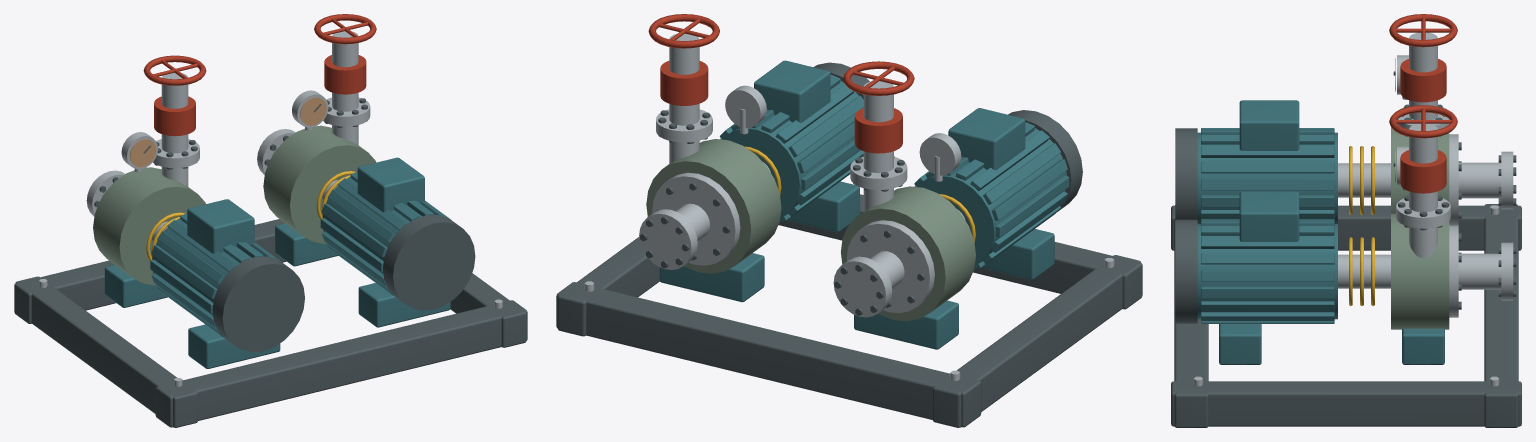
Rendered from pump_skid.glb.
The picture shows the model from 3 angles, left to right: view 1: azimuth 30°, elevation 25°; view 2: azimuth 150°, elevation 25°; view 3: azimuth 270°, elevation 25°; orthographic projection. The views are drawn at different scales.
Parts seen in each view (by area): view 1: pump_skid_SPOT_cast_iron, pump_skid_SPOT_petrol_enamel, pump_skid_SPOT_sage_enamel, pump_skid_SPOT_machined_steel, pump_skid_SPOT_valve_red, pump_skid_SPOT_ceramic, pump_skid_SPOT_safety_yellow; view 2: pump_skid_SPOT_cast_iron, pump_skid_SPOT_petrol_enamel, pump_skid_SPOT_machined_steel, pump_skid_SPOT_sage_enamel, pump_skid_SPOT_valve_red, pump_skid_SPOT_safety_yellow; view 3: pump_skid_SPOT_petrol_enamel, pump_skid_SPOT_cast_iron, pump_skid_SPOT_machined_steel, pump_skid_SPOT_sage_enamel, pump_skid_SPOT_valve_red, pump_skid_SPOT_safety_yellow.
Boxes of the visible parts, x1=… form: pump_skid_SPOT_cast_iron: x1=14, y1=98, x2=527, y2=427; pump_skid_SPOT_petrol_enamel: x1=104, y1=157, x2=451, y2=368; pump_skid_SPOT_sage_enamel: x1=93, y1=125, x2=376, y2=285; pump_skid_SPOT_machined_steel: x1=39, y1=31, x2=502, y2=386; pump_skid_SPOT_valve_red: x1=143, y1=14, x2=376, y2=136; pump_skid_SPOT_ceramic: x1=130, y1=97, x2=326, y2=167; pump_skid_SPOT_safety_yellow: x1=146, y1=171, x2=355, y2=261; pump_skid_SPOT_cast_iron: x1=556, y1=62, x2=1142, y2=427; pump_skid_SPOT_petrol_enamel: x1=659, y1=60, x2=1069, y2=349; pump_skid_SPOT_machined_steel: x1=584, y1=33, x2=1114, y2=380; pump_skid_SPOT_sage_enamel: x1=646, y1=139, x2=975, y2=321; pump_skid_SPOT_valve_red: x1=648, y1=14, x2=914, y2=153; pump_skid_SPOT_safety_yellow: x1=745, y1=146, x2=975, y2=242; pump_skid_SPOT_petrol_enamel: x1=1197, y1=100, x2=1444, y2=364; pump_skid_SPOT_cast_iron: x1=1171, y1=71, x2=1521, y2=427; pump_skid_SPOT_machined_steel: x1=1193, y1=32, x2=1513, y2=386; pump_skid_SPOT_sage_enamel: x1=1391, y1=127, x2=1449, y2=329; pump_skid_SPOT_valve_red: x1=1389, y1=14, x2=1457, y2=193; pump_skid_SPOT_safety_yellow: x1=1349, y1=146, x2=1374, y2=305.
Size of the model in its own units: 2.65 by 1.76 by 2.05.
